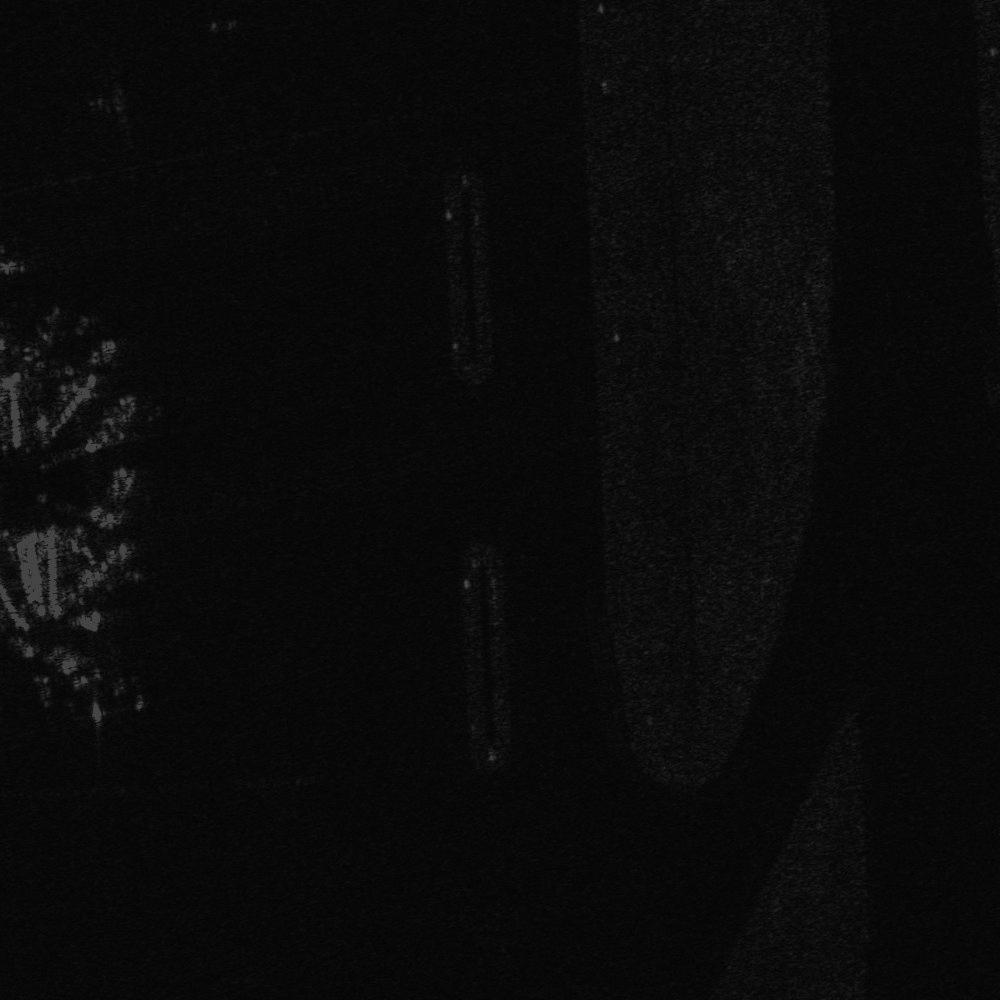Boeing737: (32, 641, 159, 730)
